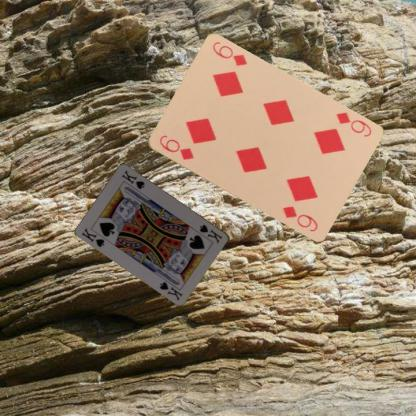6d: (332, 109, 373, 139), (156, 132, 195, 162)
Ks: (197, 222, 224, 244), (79, 226, 106, 248)
